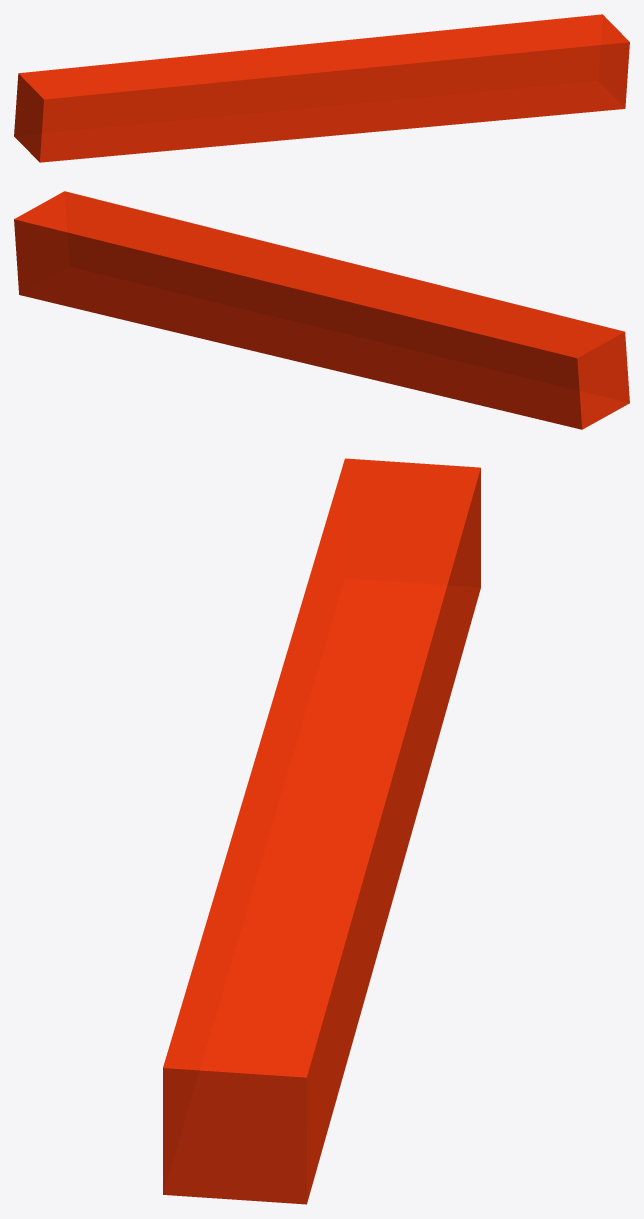
The model's file is Event_420107950_EErechit_70.fbx.
3 renders of one model, top to bottom at view 1: azimuth 30°, elevation 25°; view 2: azimuth 150°, elevation 25°; view 3: azimuth 270°, elevation 25°, orthographic. The views are drawn at different scales.
Parts seen in each view (by area): view 1: Model; view 2: Model; view 3: Model.
Part boxes in pixels (left/top/right/bottom): Model: left=14, top=14, right=629, bottom=162; Model: left=14, top=191, right=629, bottom=429; Model: left=163, top=458, right=480, bottom=1204.
Size of the model in its own units: 0.6752 by 0.1252 by 0.1681.
